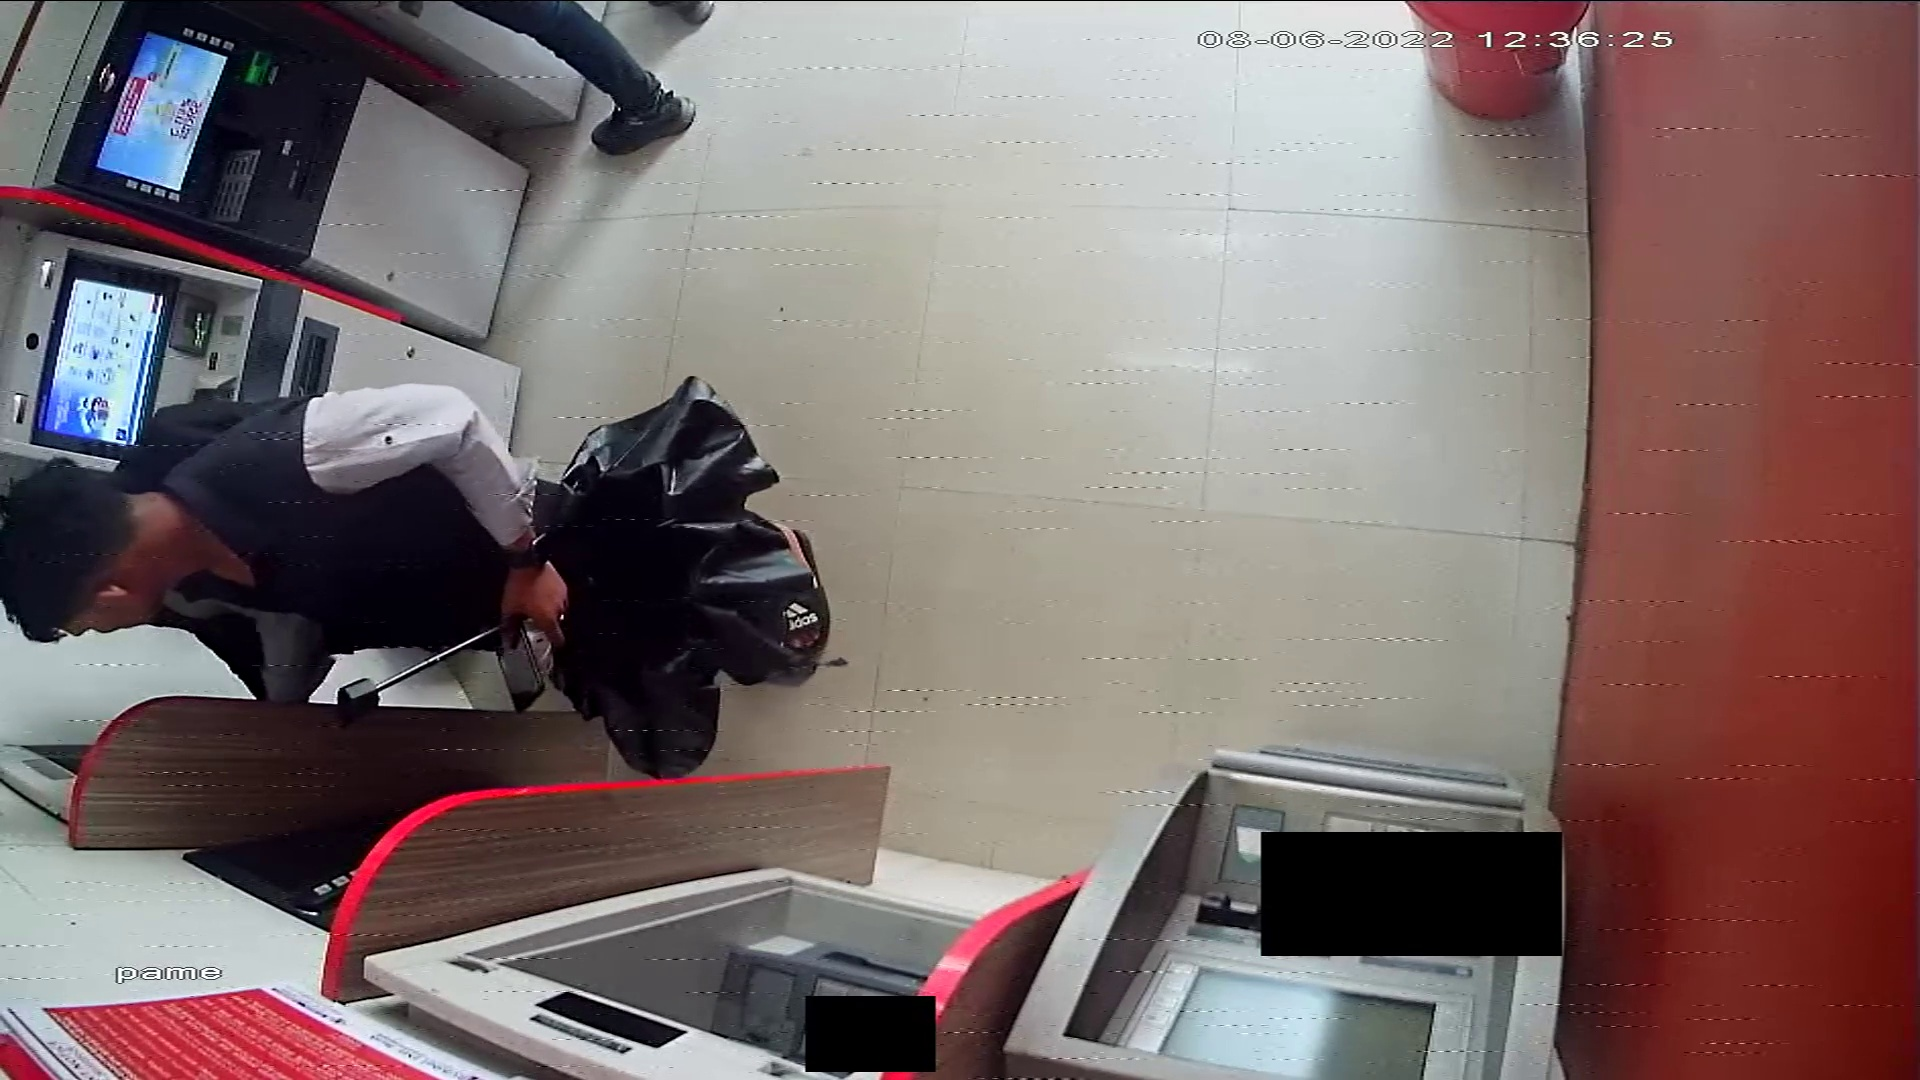person: (1, 382, 571, 650)
